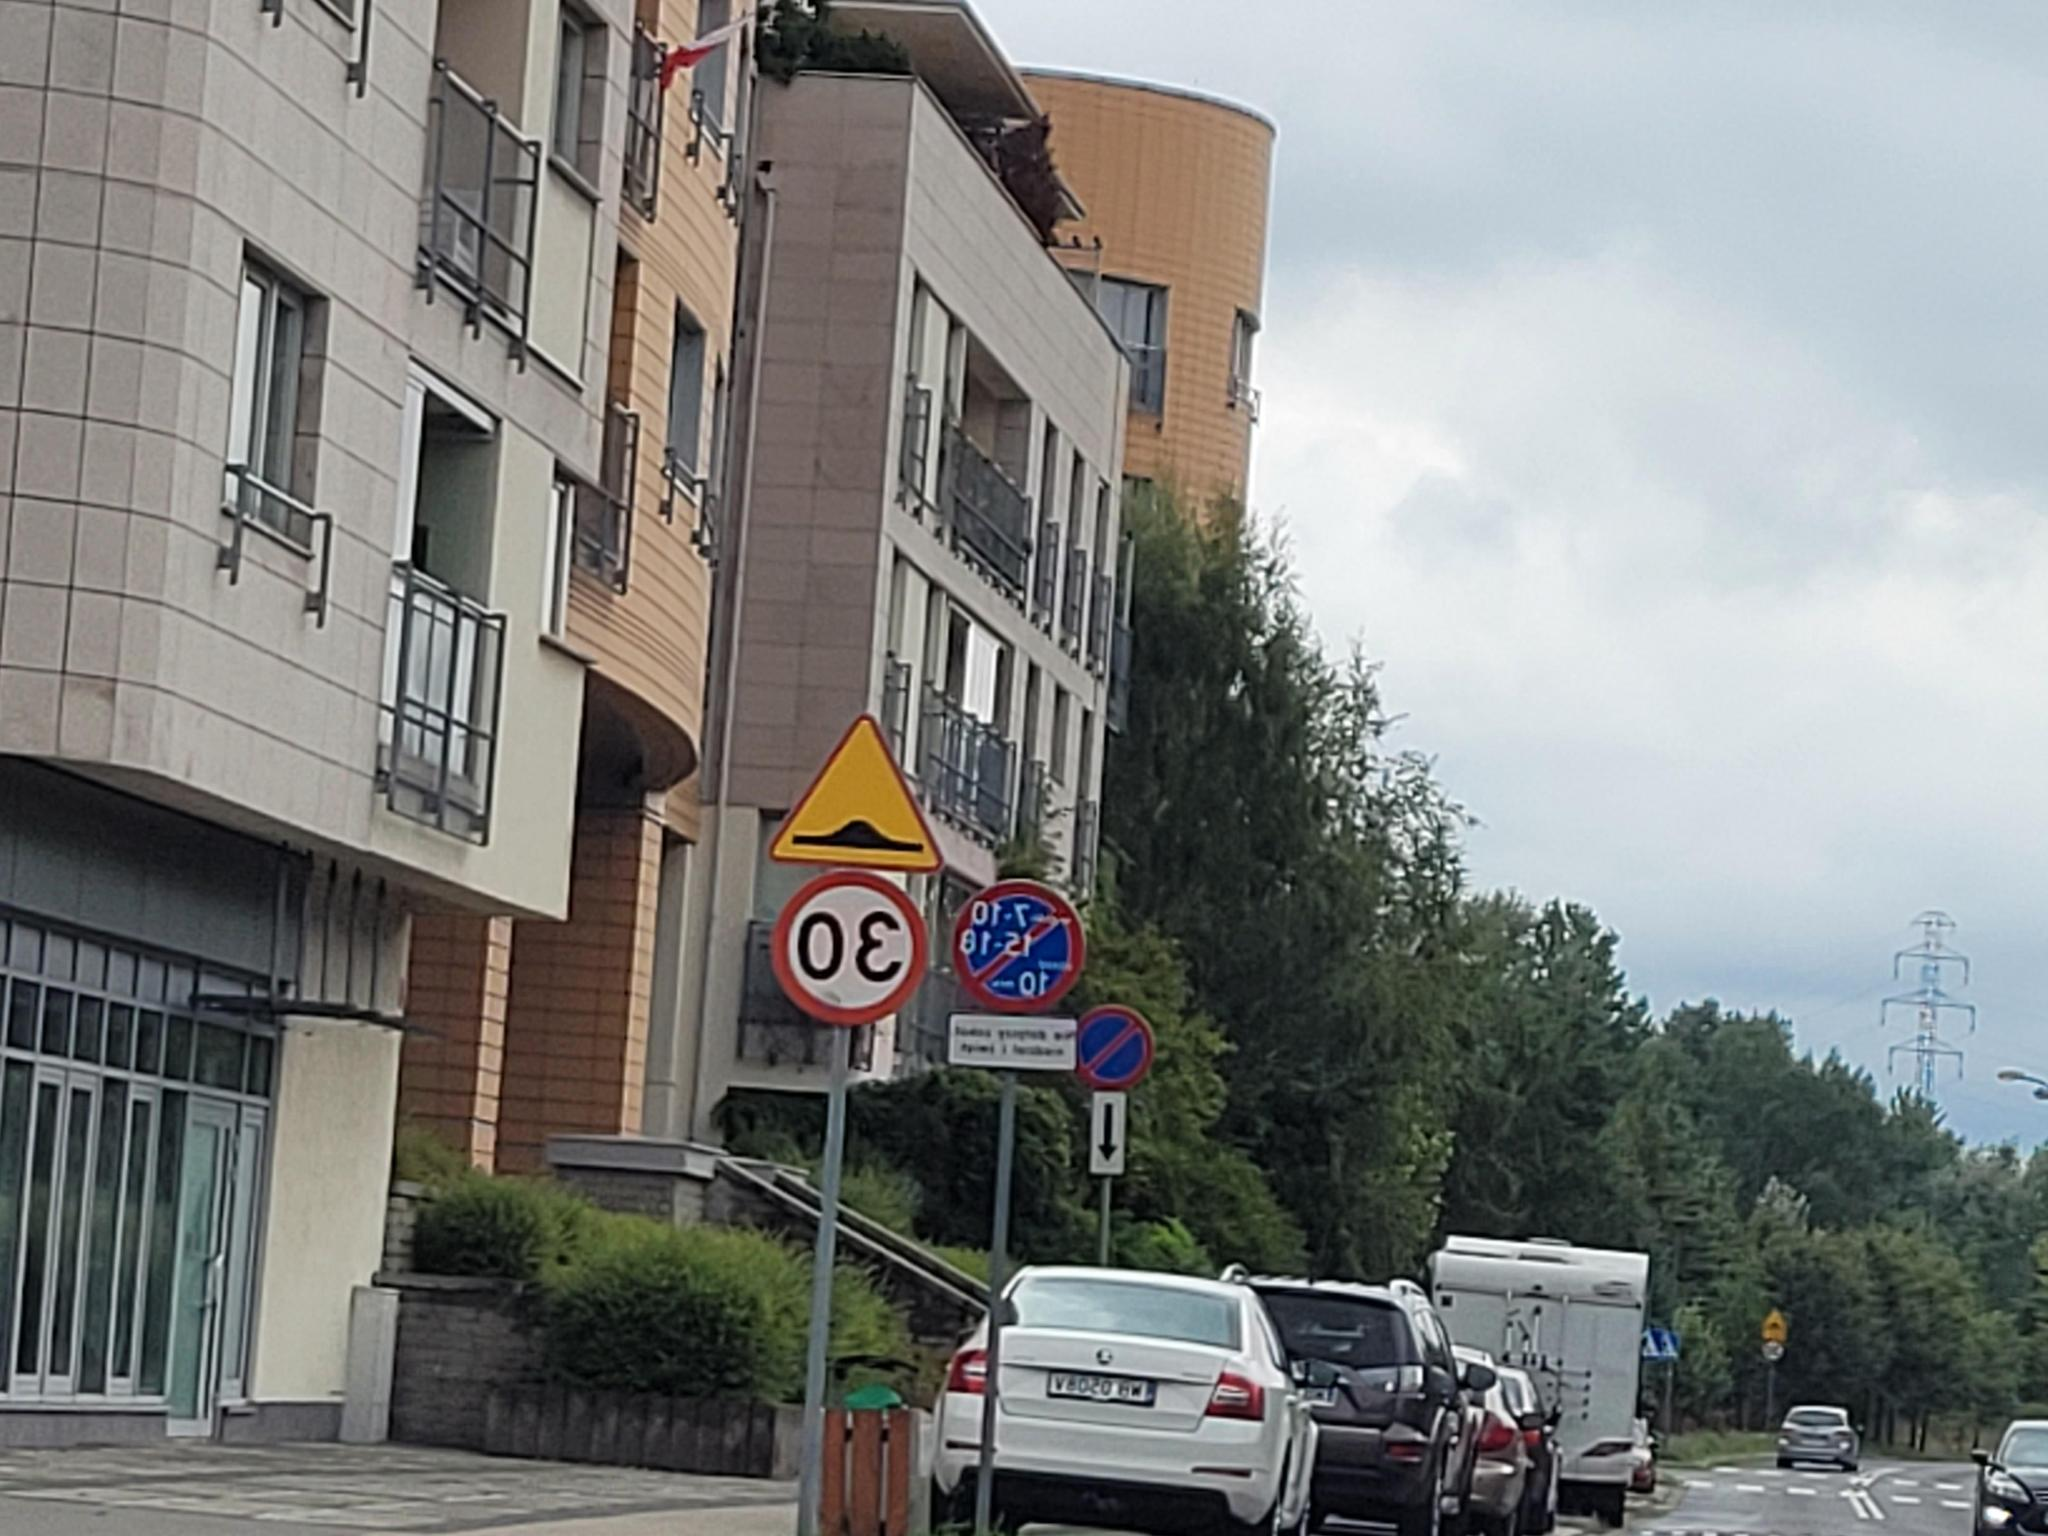other: (1090, 1094, 1124, 1175)
prohibitory: (771, 871, 929, 1028), (950, 878, 1085, 1015), (1077, 1004, 1156, 1091)
warning: (766, 712, 942, 871)
